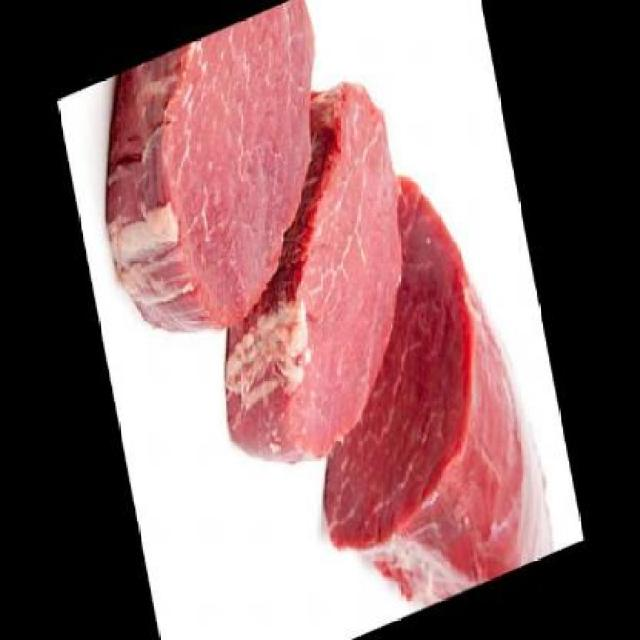beef: (307, 169, 559, 600), (79, 0, 319, 324), (229, 80, 409, 459)
